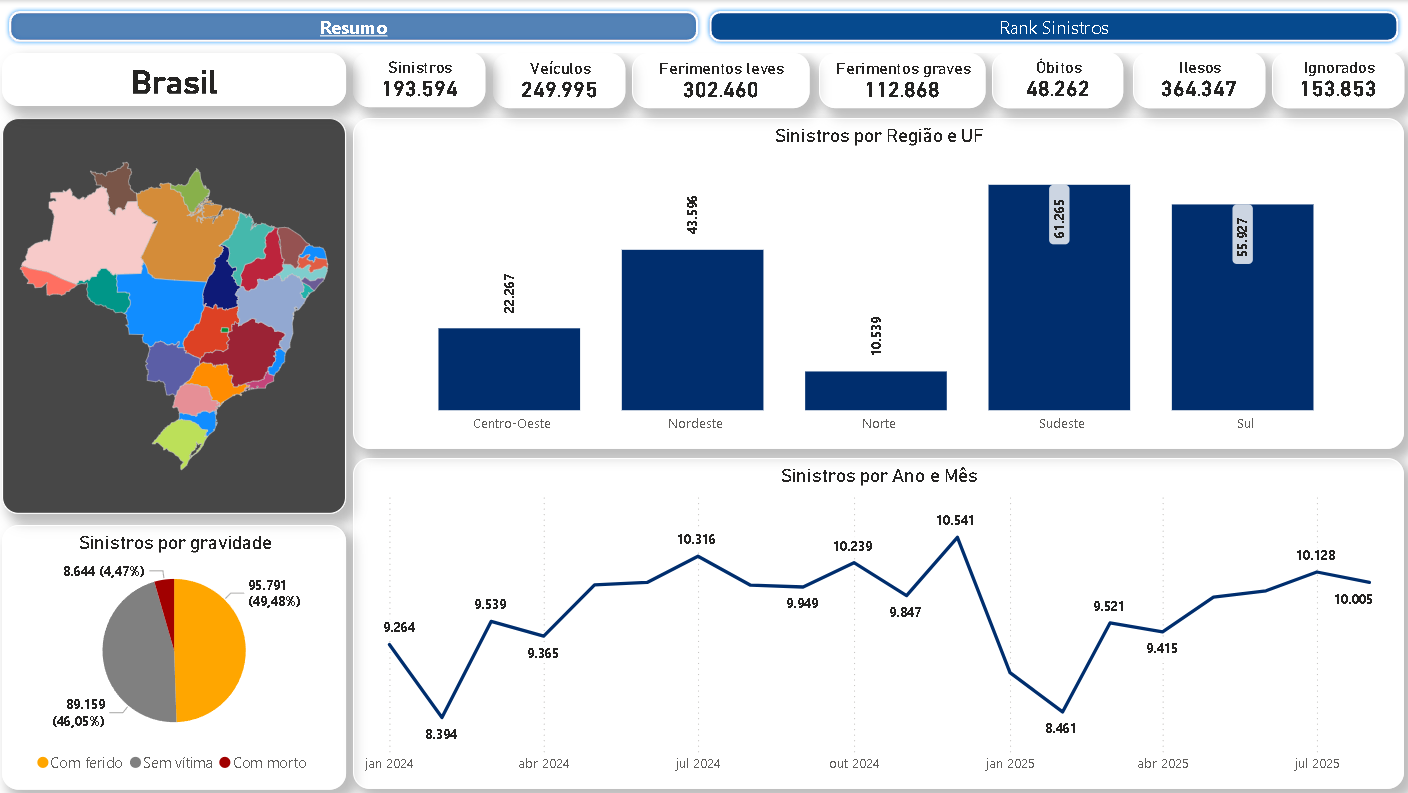

This screenshot's page, from the dashboard's own definition file:
{"tool":"powerbi","page":{"name":"Resumo","canvas":[1280,720],"ordinal":0},"visuals":[{"type":"card","title":"Veículos","fields":{"Values":["Sum(Resumo sinistros.total_veiculos)"]},"box":[448.9,48.1,119.7,49.9],"z":0},{"type":"card","title":"Ferimentos leves","fields":{"Values":["Sum(Resumo sinistros.total_ferimentos_leves)"]},"box":[574.9,48.1,160.5,49.9],"z":1000},{"type":"card","title":"Ferimentos graves","fields":{"Values":["Sum(Resumo sinistros.total_ferimentos_graves)"]},"box":[744.5,48.1,150.5,49.9],"z":2000},{"type":"card","title":"Óbitos","fields":{"Values":["Sum(Resumo sinistros.total_obitos)"]},"box":[901.1,47.4,119.5,50.6],"z":3000},{"type":"card","title":"Ilesos","fields":{"Values":["Sum(Resumo sinistros.total_ilesos)"]},"box":[1029.2,47.2,119.7,50.8],"z":4000},{"type":"card","title":"Ignorados","fields":{"Values":["Sum(Resumo sinistros.total_ignorados)"]},"box":[1155.3,47.2,119.7,50.8],"z":5000},{"type":"card","title":"Sinistros","fields":{"Values":["Sum(Consulta1.total_sinistros)"]},"box":[321.9,47.2,119.7,49.9],"z":6000},{"type":"shapeMap","fields":{"Category":["Localidade.localidade"]},"box":[3.6,106.9,311.9,359.1],"z":7000},{"type":"pieChart","title":"Sinistros por gravidade","fields":{"Category":["Resumo sinistros.gravidade"],"Y":["Sum(Resumo sinistros.total_sinistros)"]},"box":[3.2,475.9,312.2,240.1],"z":8000},{"type":"clusteredColumnChart","fields":{"Category":["Localidade.regiao","Localidade.uf"],"Y":["Sum(Resumo sinistros.total_sinistros)"]},"box":[321.9,106.9,953,300],"z":9000},{"type":"lineChart","fields":{"Category":["Calendário.data.Variation.Hierarquia de datas.Ano","Calendário.data.Variation.Hierarquia de datas.Mês"],"Y":["Sum(Resumo sinistros.total_sinistros)"]},"box":[321.9,415.6,952.7,300.4],"z":10000},{"type":"pageNavigator","box":[0,0,1280.4,48.1],"z":11000},{"type":"card","title":"Sinistros","fields":{"Values":["Localidade.Titulo"]},"box":[3.2,48.4,312.2,48.4],"z":12000}]}

Visuals, with their boxes in screenshot pixels (x1, y1, x2, y2), scaled from the page's 1280x720 canvas onto the 1408x793 screenshot:
"Veículos" card: region(494, 53, 625, 108)
"Ferimentos leves" card: region(632, 53, 809, 108)
"Ferimentos graves" card: region(819, 53, 985, 108)
"Óbitos" card: region(991, 52, 1123, 108)
"Ilesos" card: region(1132, 52, 1264, 108)
"Ignorados" card: region(1271, 52, 1402, 108)
"Sinistros" card: region(354, 52, 486, 107)
shapeMap - Localidade.localidade: region(4, 118, 347, 513)
"Sinistros por gravidade" pieChart: region(4, 524, 347, 789)
clusteredColumnChart - Localidade.regiao x Localidade.uf: region(354, 118, 1402, 448)
lineChart - Calendário.data.Variation.Hierarquia de datas.Ano x Calendário.data.Variation.Hierarquia de datas.Mês: region(354, 458, 1402, 789)
pageNavigator: region(0, 0, 1407, 53)
"Sinistros" card: region(4, 53, 347, 107)
